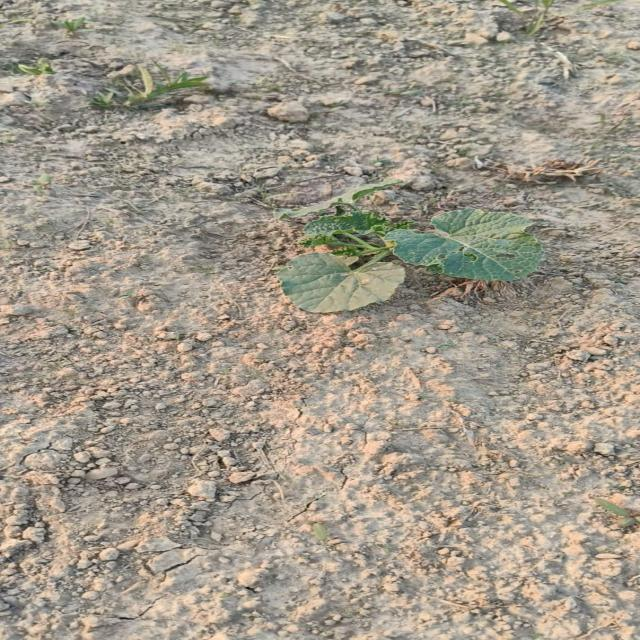plant: (276, 178, 543, 313)
